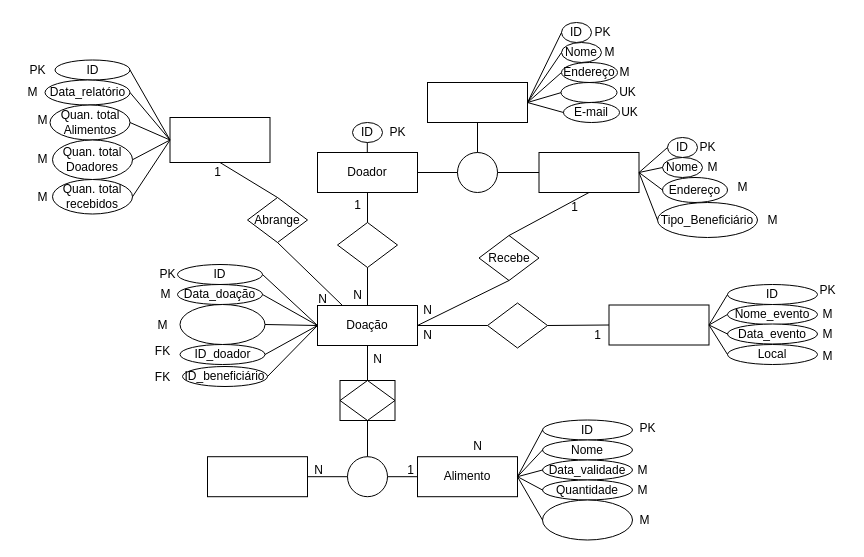
The diagram is 864 pixels wide and 557 high, and some of its shapes have lost their labels. The box of each missing label's shape, as (x1, y1, x2, y2) in pixels:
Beneficiário: (538, 152, 639, 192)
Contem: (339, 380, 395, 420)
Data recebimento: (542, 499, 632, 540)
Evento de Doação: (608, 304, 709, 345)
Faz: (336, 222, 398, 268)
Pessoa: (426, 82, 528, 122)
Pode ter: (486, 302, 548, 348)
Quantidade Alimentos: (179, 304, 265, 344)
Relatório de doações: (169, 116, 270, 162)
Telefone: (560, 82, 617, 102)
Tipo de alimento: (206, 456, 308, 497)
